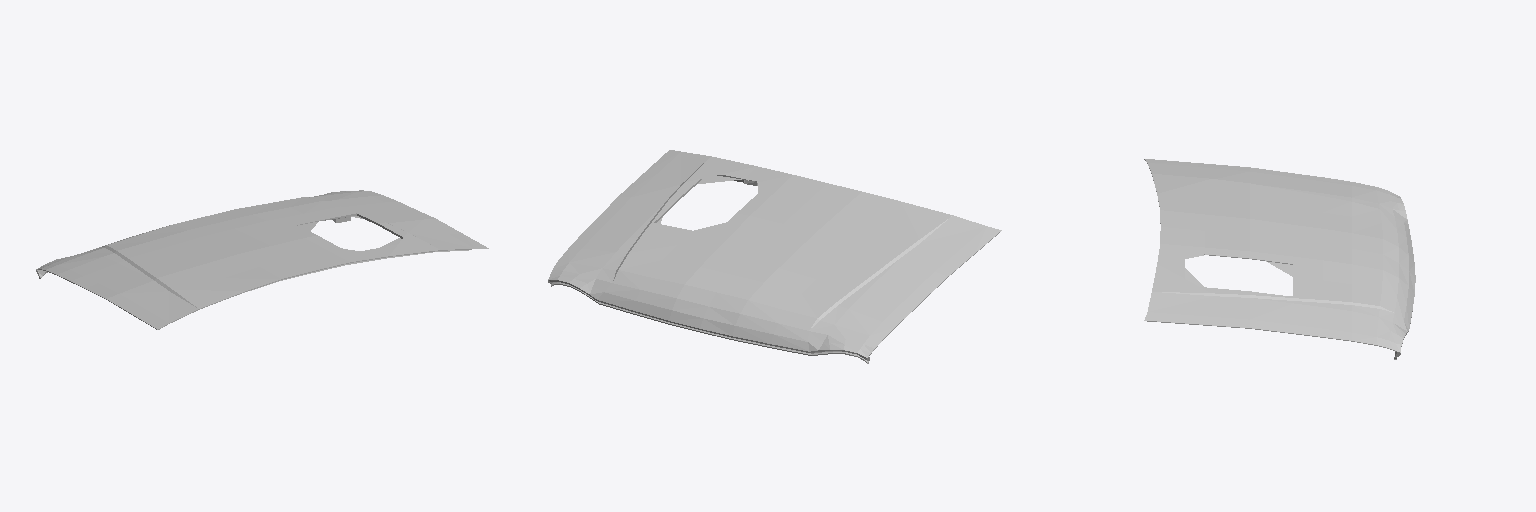
File: TurboCharger_Hood.obj
3 views of the same model, side by side, from view 1: azimuth 30°, elevation 25°; view 2: azimuth 150°, elevation 25°; view 3: azimuth 270°, elevation 25° (orthographic).
Parts seen in each view (by area): view 1: TurboCharger_Hood_datsun_hood-sharedassets1.assets-201; view 2: TurboCharger_Hood_datsun_hood-sharedassets1.assets-201; view 3: TurboCharger_Hood_datsun_hood-sharedassets1.assets-201.
Part boxes in pixels (x1,y1,x2,y2): TurboCharger_Hood_datsun_hood-sharedassets1.assets-201: (36, 190, 488, 329); TurboCharger_Hood_datsun_hood-sharedassets1.assets-201: (548, 150, 1001, 363); TurboCharger_Hood_datsun_hood-sharedassets1.assets-201: (1144, 159, 1415, 359).
Size of the model in its own units: 1.2 by 0.2019 by 0.8523.